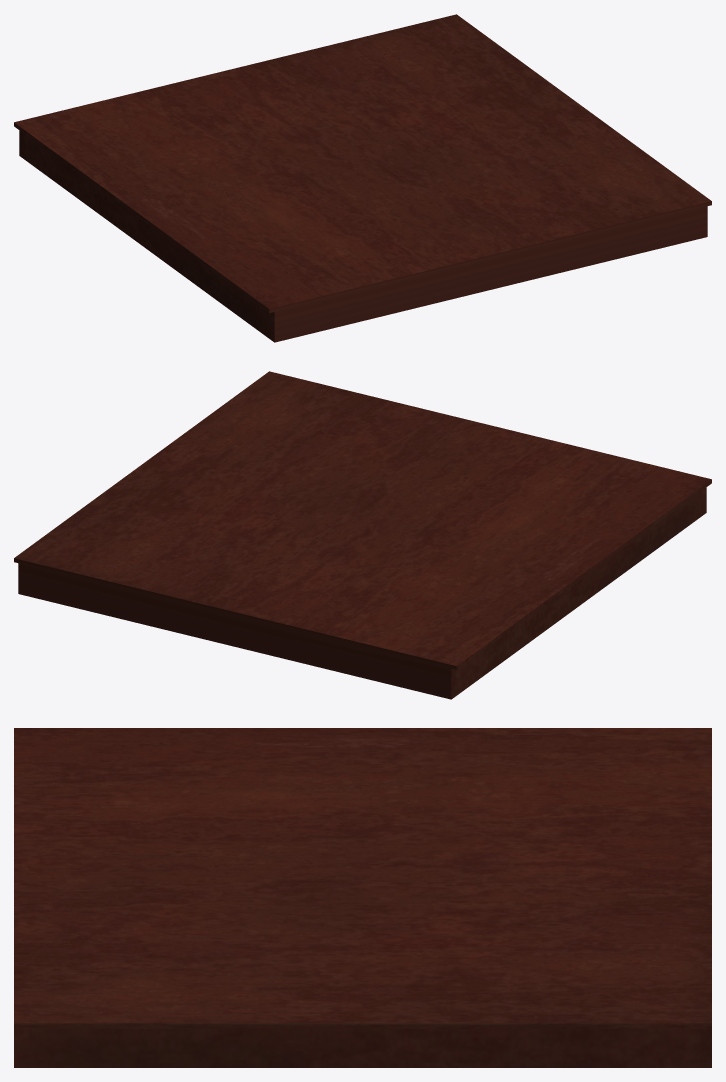
File: ARC0810005.fbx
3 views of the same model, one above another, from view 1: azimuth 30°, elevation 25°; view 2: azimuth 150°, elevation 25°; view 3: azimuth 270°, elevation 25° (orthographic). The views are drawn at different scales.
Visible parts, largest first — view 1: smARC0810005; view 2: smARC0810005; view 3: smARC0810005.
Boxes of the visible parts, bbox=[...] form: smARC0810005: bbox=[14, 14, 711, 342]; smARC0810005: bbox=[14, 371, 711, 699]; smARC0810005: bbox=[14, 728, 711, 1067].
Size of the model in its own units: 300 by 22.52 by 300.
Materials: 1 (1 with a texture image).
